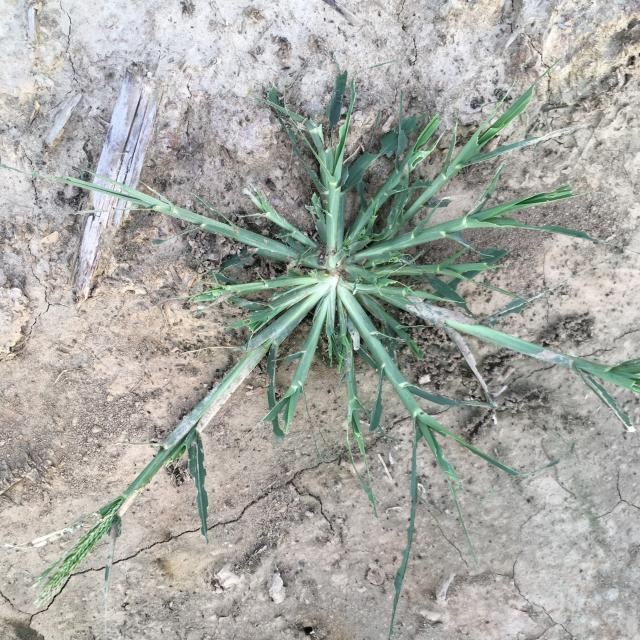Goosegrass: (31, 59, 640, 638)
